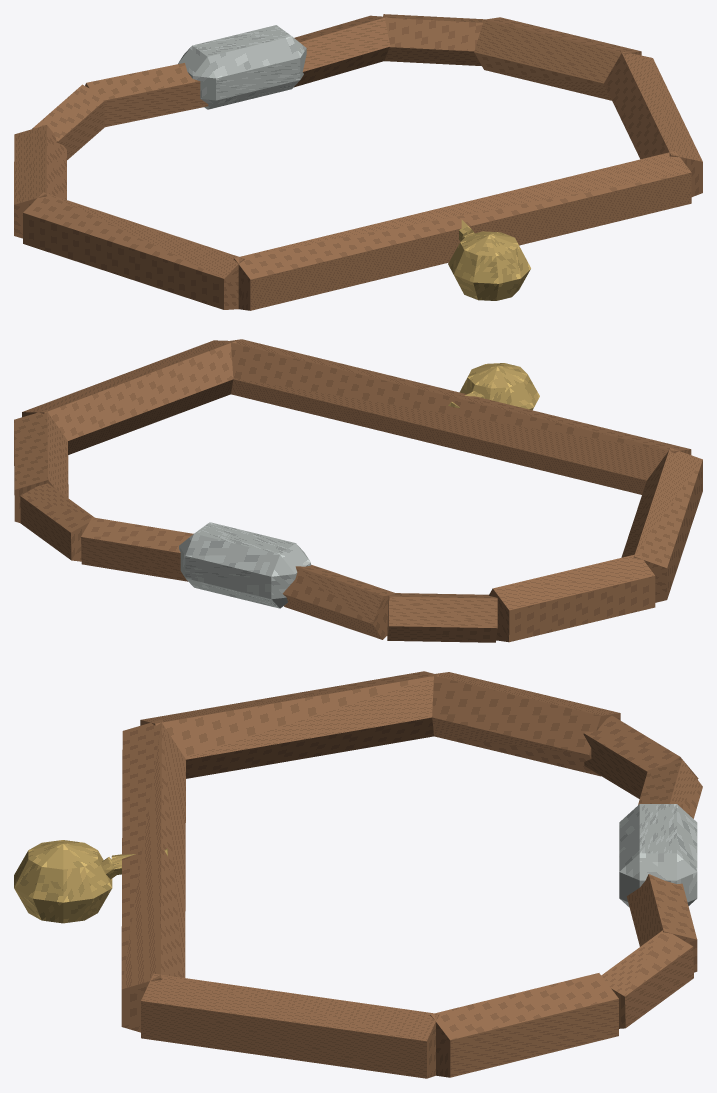
File: fur_collar.glb
The picture shows the model from 3 angles, top to bottom: view 1: azimuth 30°, elevation 25°; view 2: azimuth 150°, elevation 25°; view 3: azimuth 270°, elevation 25°; orthographic projection. The views are drawn at different scales.
Parts seen in each view (by area): view 1: block_looped strap 2, block_looped strap 1, block_strap end 1 (×2), block_looped strap 4, block_strap keeper, block_strap end 0 (×2), block_looped strap 3, block_small hanging bell, block_looped strap 0; view 2: block_looped strap 2, block_looped strap 3, block_strap end 1 (×2), block_looped strap 0, block_strap end 0 (×2), block_strap keeper, block_looped strap 1, block_looped strap 4, block_small hanging bell; view 3: block_looped strap 3, block_looped strap 1, block_looped strap 2, block_looped strap 4, block_looped strap 0, block_strap end 0 (×2), block_small hanging bell, block_strap keeper, block_strap end 1 (×2).
Boxes of the visible parts, <box> form: block_looped strap 2: <box>233,151,691,310</box>; block_looped strap 1: <box>23,192,244,309</box>; block_strap end 1 (×2): <box>85,15,390,127</box>; block_looped strap 4: <box>474,17,641,100</box>; block_strap keeper: <box>178,25,306,109</box>; block_strap end 0 (×2): <box>32,14,484,159</box>; block_looped strap 3: <box>604,51,702,196</box>; block_small hanging bell: <box>448,231,530,300</box>; block_looped strap 0: <box>14,125,66,238</box>; block_looped strap 2: <box>224,339,691,494</box>; block_looped strap 3: <box>22,340,236,454</box>; block_strap end 1 (×2): <box>81,517,395,639</box>; block_looped strap 0: <box>489,553,655,642</box>; block_strap end 0 (×2): <box>20,483,497,642</box>; block_strap keeper: <box>179,522,310,608</box>; block_looped strap 1: <box>621,448,702,602</box>; block_looped strap 4: <box>14,410,68,523</box>; block_small hanging bell: <box>459,363,539,410</box>; block_looped strap 3: <box>141,973,439,1078</box>; block_looped strap 1: <box>140,671,438,778</box>; block_looped strap 2: <box>121,719,185,1032</box>; block_looped strap 4: <box>430,973,618,1077</box>; block_looped strap 0: <box>429,672,620,776</box>; block_strap end 0 (×2): <box>583,715,698,1028</box>; block_small hanging bell: <box>14,840,112,923</box>; block_strap keeper: <box>619,804,697,907</box>; block_strap end 1 (×2): <box>626,759,702,972</box>.
Size of the model in its own units: 0.1323 by 0.0152 by 0.1041.
1 material, 1 textured.
